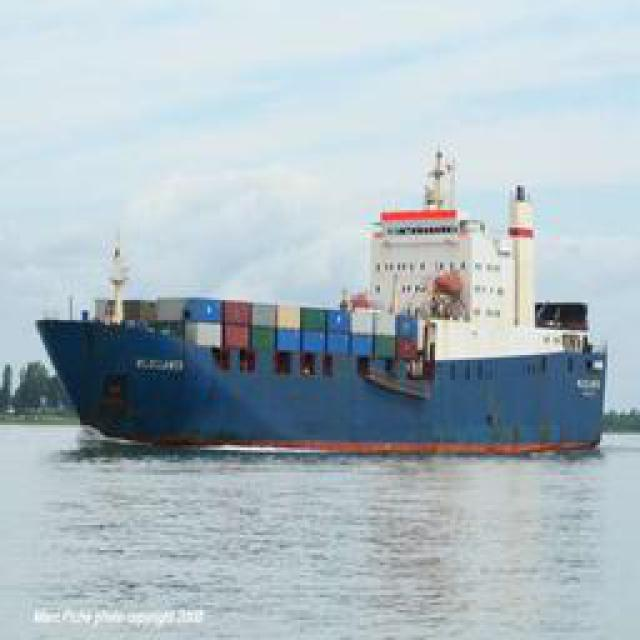Ship: (40, 145, 610, 455)
